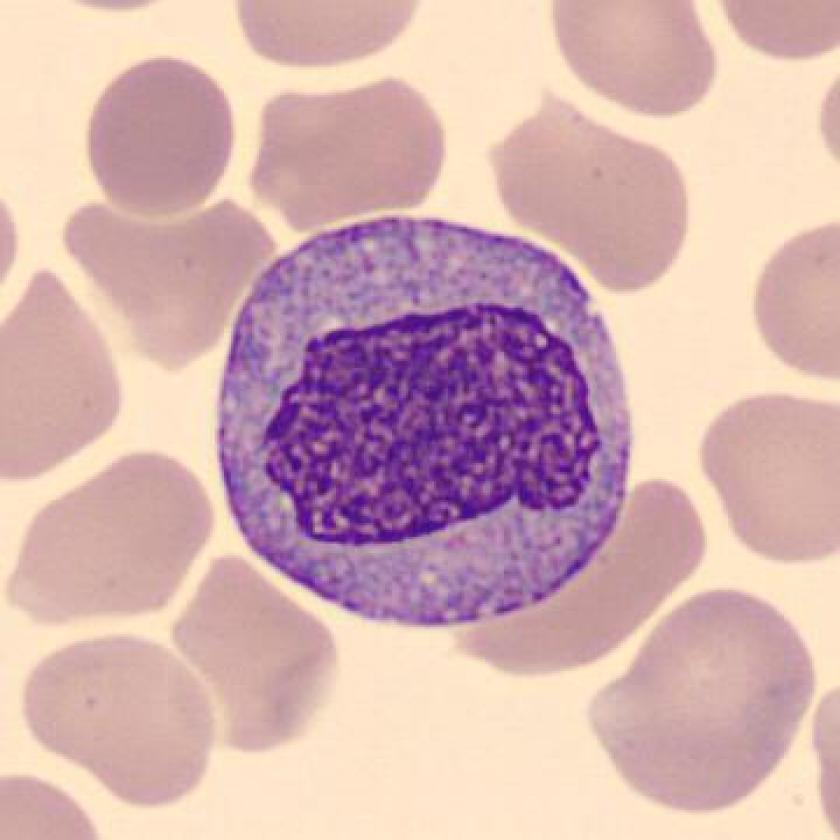monocyte: (206, 202, 650, 640)
